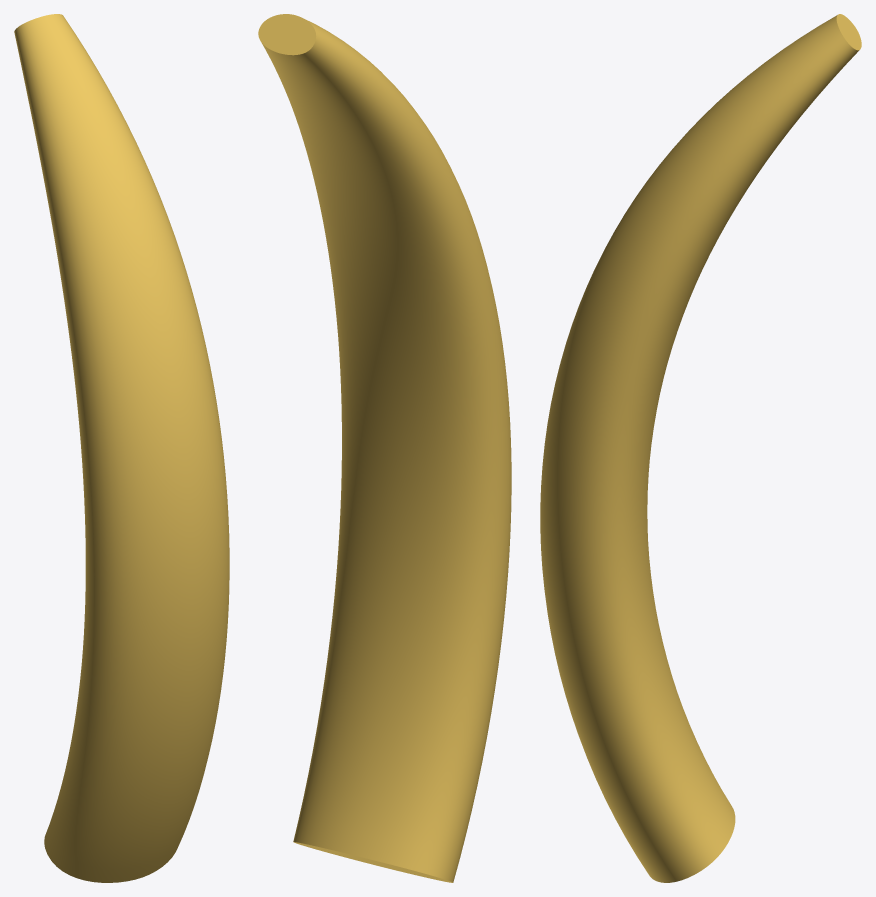
Rendered from rat tooth.fbx.
The picture shows the model from 3 angles, left to right: view 1: azimuth 30°, elevation 25°; view 2: azimuth 150°, elevation 25°; view 3: azimuth 270°, elevation 25°; orthographic projection. The views are drawn at different scales.
Parts seen in each view (by area): view 1: NurbsPath; view 2: NurbsPath; view 3: NurbsPath.
Part boxes in pixels (x1,y1,x2,y2): NurbsPath: (14, 14, 229, 882); NurbsPath: (258, 14, 511, 882); NurbsPath: (540, 14, 861, 882).
Bounding box in the file's own units: 72.64 × 412 × 141.
